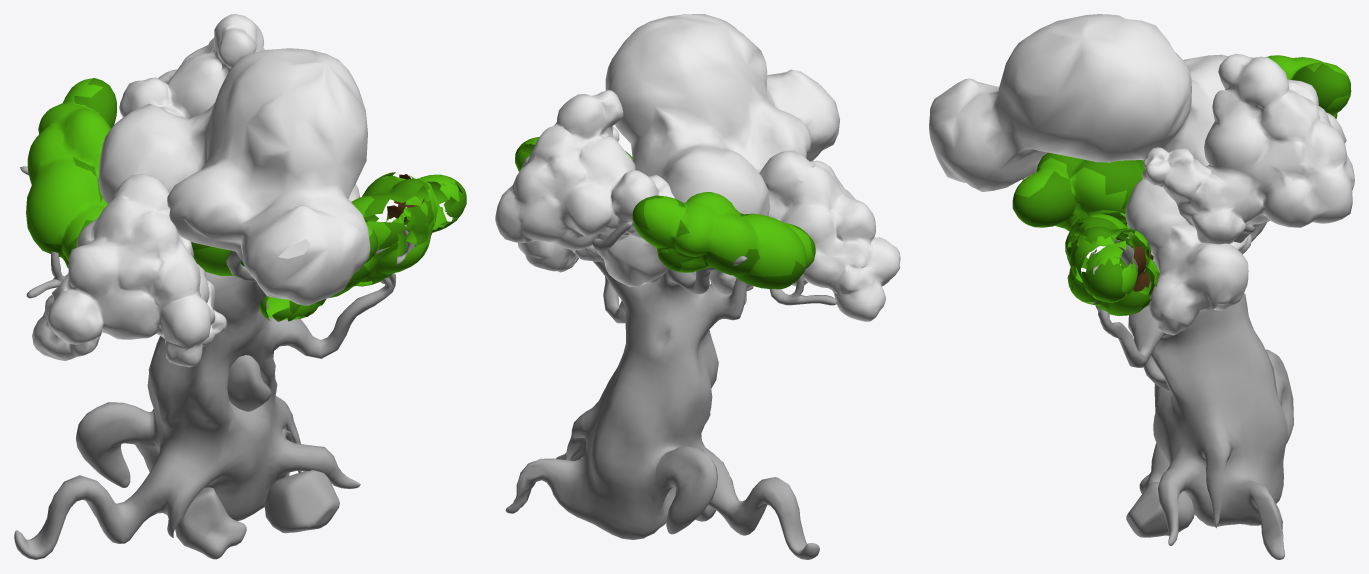
Rendered from ku_tree_edit_001.fbx.
The picture shows the model from 3 angles, left to right: view 1: azimuth 30°, elevation 25°; view 2: azimuth 150°, elevation 25°; view 3: azimuth 270°, elevation 25°; orthographic projection. The views are drawn at different scales.
Visible parts, largest first — view 1: _3_tree1, Tree_Low1, _6_tree1, _7_tree2, _7_tree, Rocks_Low3, _6_tree2, _7_tree3; view 2: Tree_Low1, _3_tree1, _6_tree2, _6_tree1, _7_tree2, _3_tree2; view 3: _3_tree1, Tree_Low1, _6_tree2, _3_tree2, _7_tree3, _7_tree, Rocks_Low3, _7_tree2.
Boxes of the visible parts, bbox=[...] form: _3_tree1: bbox=[98, 48, 370, 305]; Tree_Low1: bbox=[14, 166, 414, 559]; _6_tree1: bbox=[32, 174, 226, 367]; _7_tree2: bbox=[26, 78, 116, 268]; _7_tree: bbox=[259, 172, 466, 321]; Rocks_Low3: bbox=[175, 355, 339, 559]; _6_tree2: bbox=[119, 14, 264, 118]; _7_tree3: bbox=[191, 222, 377, 275]; Tree_Low1: bbox=[505, 221, 837, 559]; _3_tree1: bbox=[597, 14, 839, 286]; _6_tree2: bbox=[495, 90, 674, 250]; _6_tree1: bbox=[709, 150, 900, 321]; _7_tree2: bbox=[632, 192, 815, 289]; _3_tree2: bbox=[517, 240, 662, 283]; _3_tree1: bbox=[929, 14, 1266, 241]; Tree_Low1: bbox=[1090, 223, 1293, 559]; _6_tree2: bbox=[1142, 54, 1354, 244]; _3_tree2: bbox=[1125, 178, 1251, 335]; _7_tree3: bbox=[1012, 152, 1144, 237]; _7_tree: bbox=[1065, 209, 1159, 315]; Rocks_Low3: bbox=[1126, 356, 1194, 537]; _7_tree2: bbox=[1266, 55, 1351, 118].
Size of the model in its own units: 4.12 by 4.76 by 3.68.
Materials: 4 (1 with a texture image).
